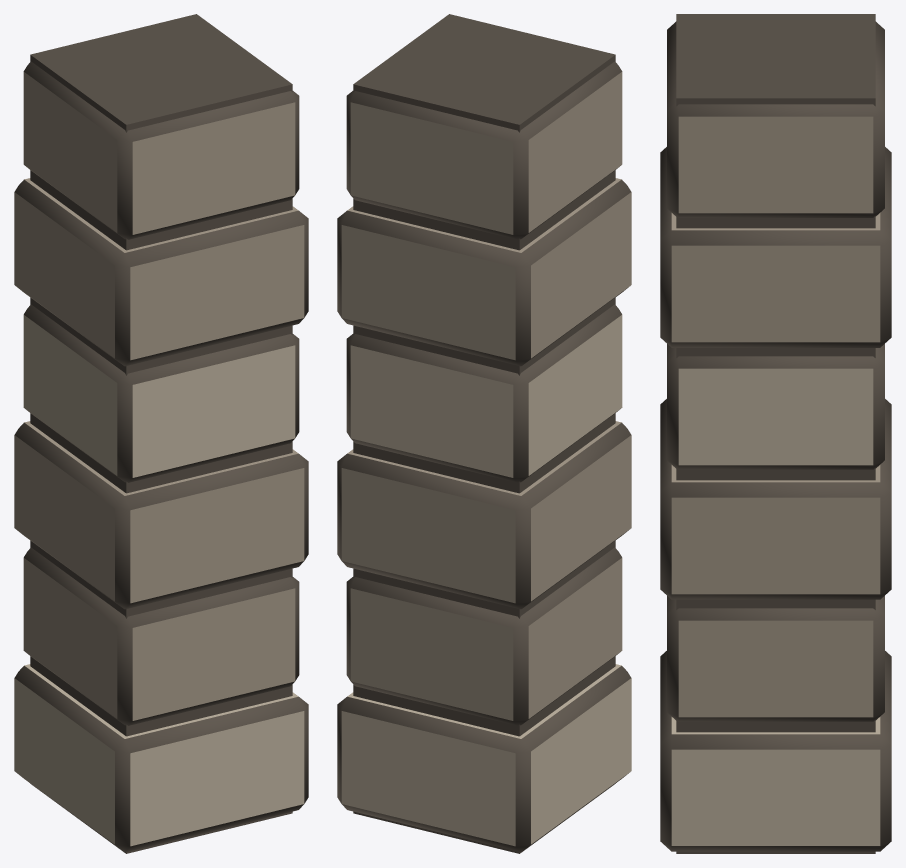
Rendered from tide_pillar.glb.
3 views of the same model, side by side, from view 1: azimuth 30°, elevation 25°; view 2: azimuth 150°, elevation 25°; view 3: azimuth 270°, elevation 25° (orthographic). The views are drawn at different scales.
Parts seen in each view (by area): view 1: tide_pillar; view 2: tide_pillar; view 3: tide_pillar.
Part boxes in pixels (box(x1,y1,x2,y2)): tide_pillar: box(14, 14, 308, 853); tide_pillar: box(337, 14, 631, 853); tide_pillar: box(660, 14, 891, 853).
Size of the model in its own units: 1 by 3.6 by 1.
